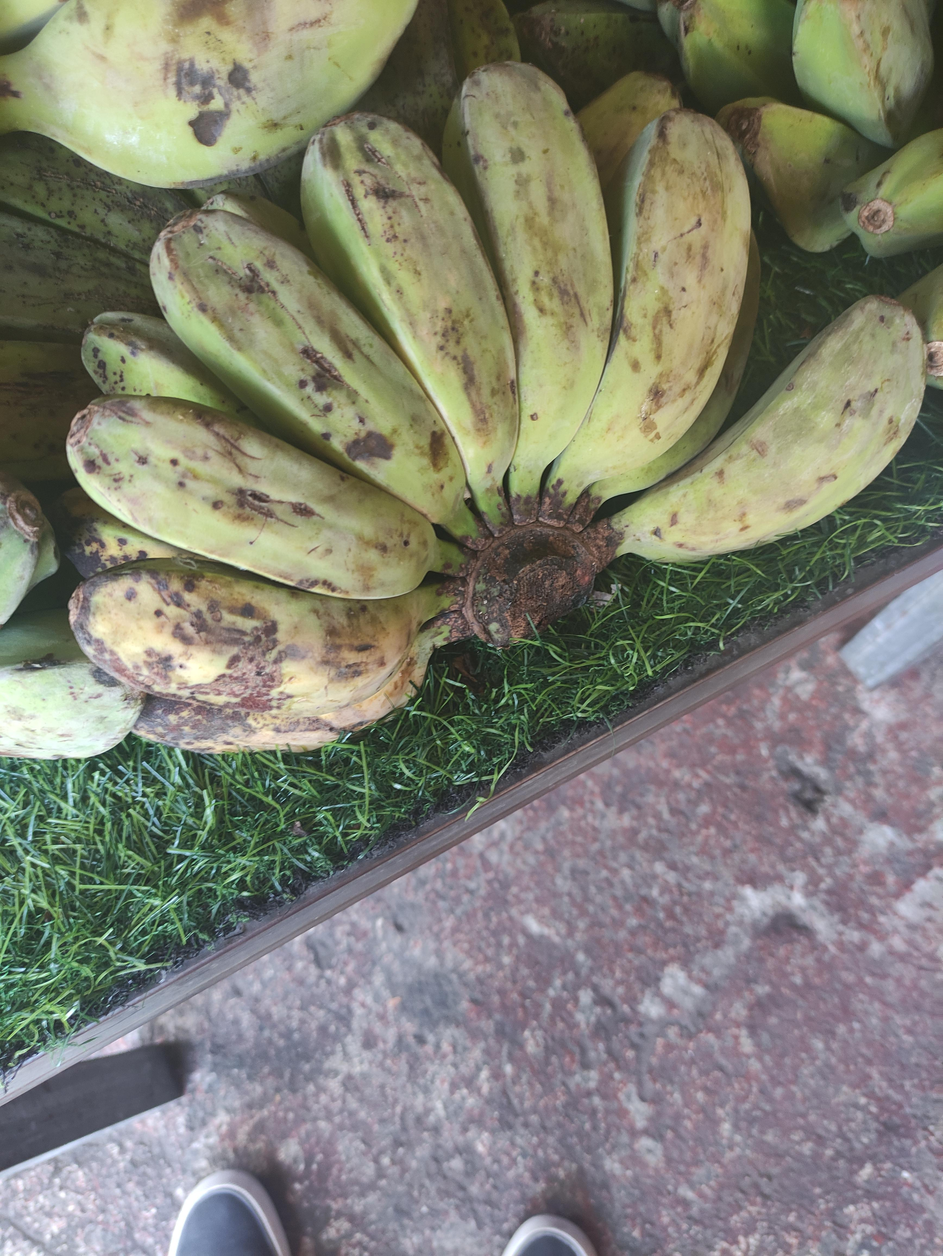underripe: (46, 61, 930, 755), (514, 0, 943, 255), (0, 132, 302, 484)
